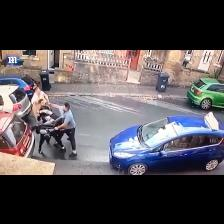person: (32, 110, 65, 153), (55, 101, 78, 156), (31, 87, 49, 104)
